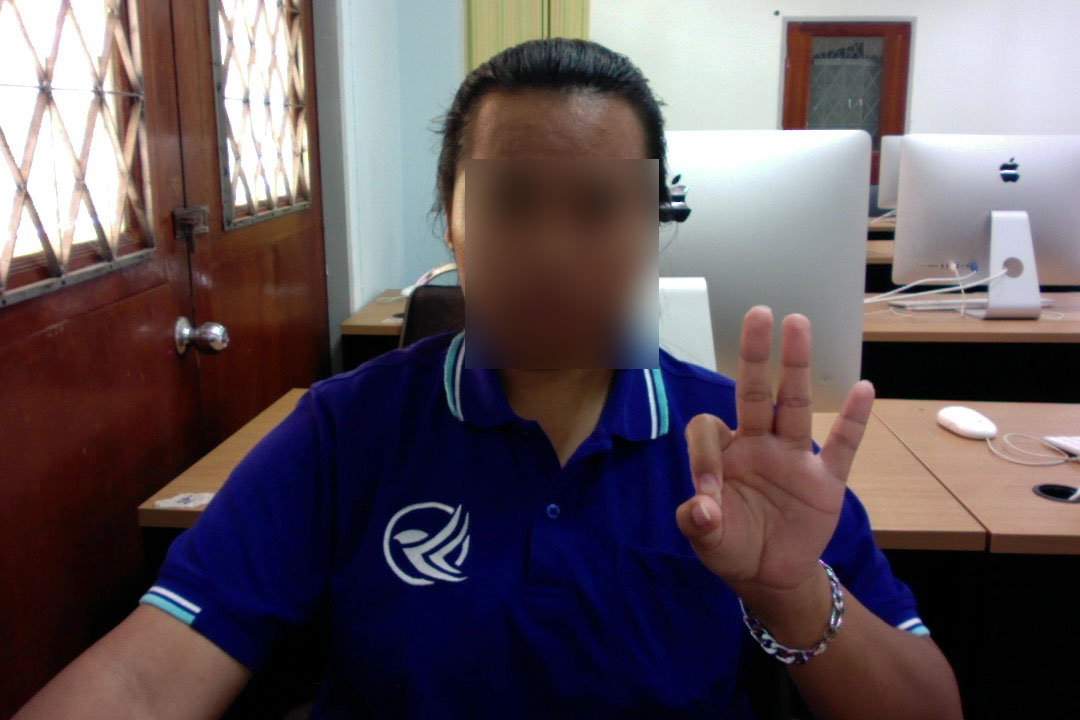for: (670, 290, 880, 617)
